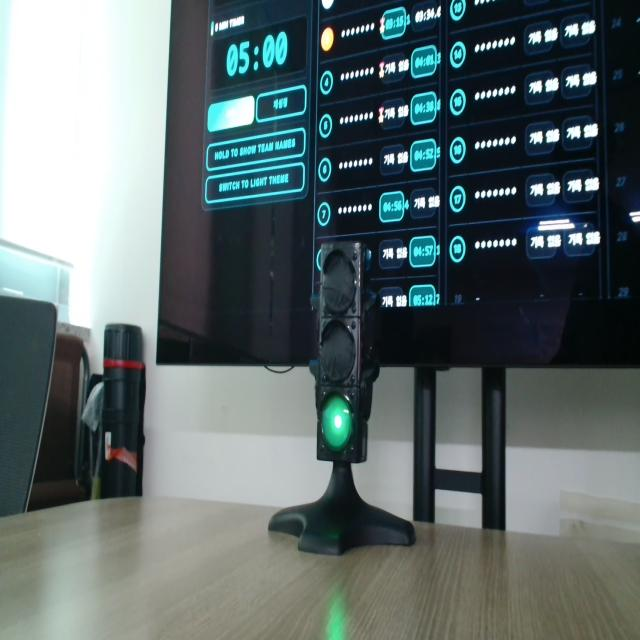green_light: (322, 395, 352, 451)
